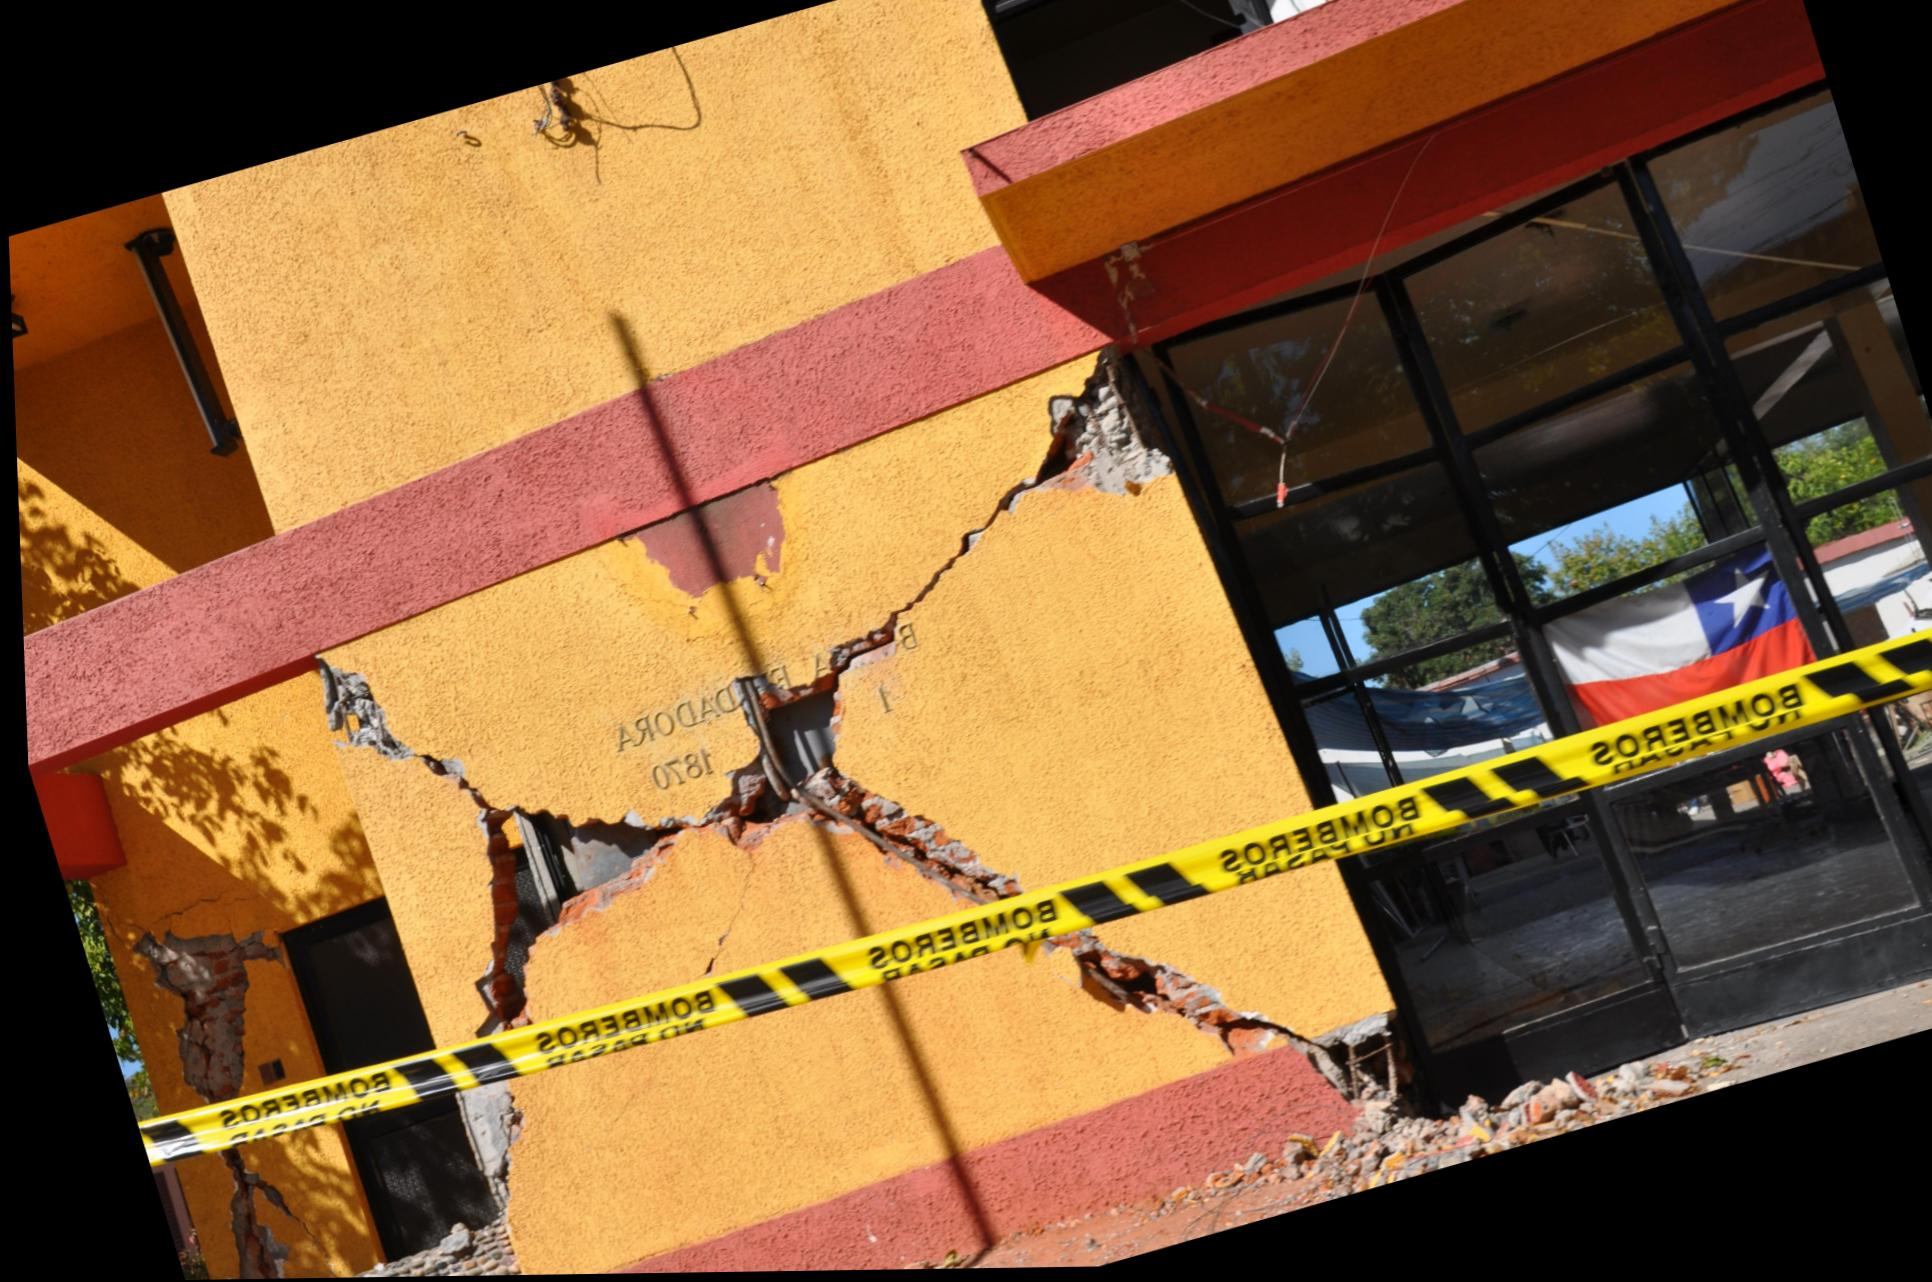crack: (688, 850, 746, 982), (1094, 449, 1103, 452)
damage: (309, 348, 1167, 1042), (1035, 934, 1391, 1112), (445, 1083, 516, 1213)
